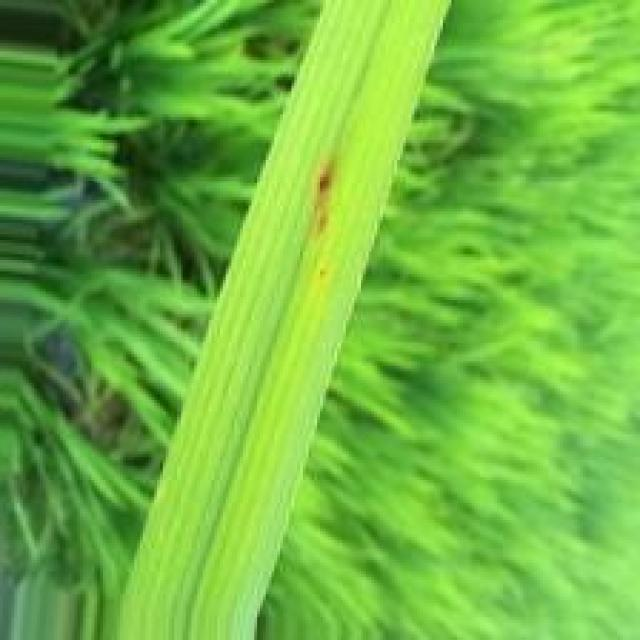Brown_Spot: (318, 152, 340, 235)
